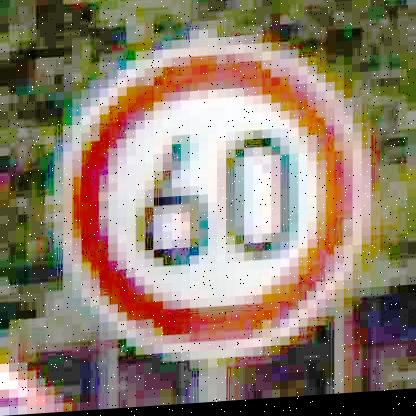Speed Limit -60-: (60, 39, 369, 367)
